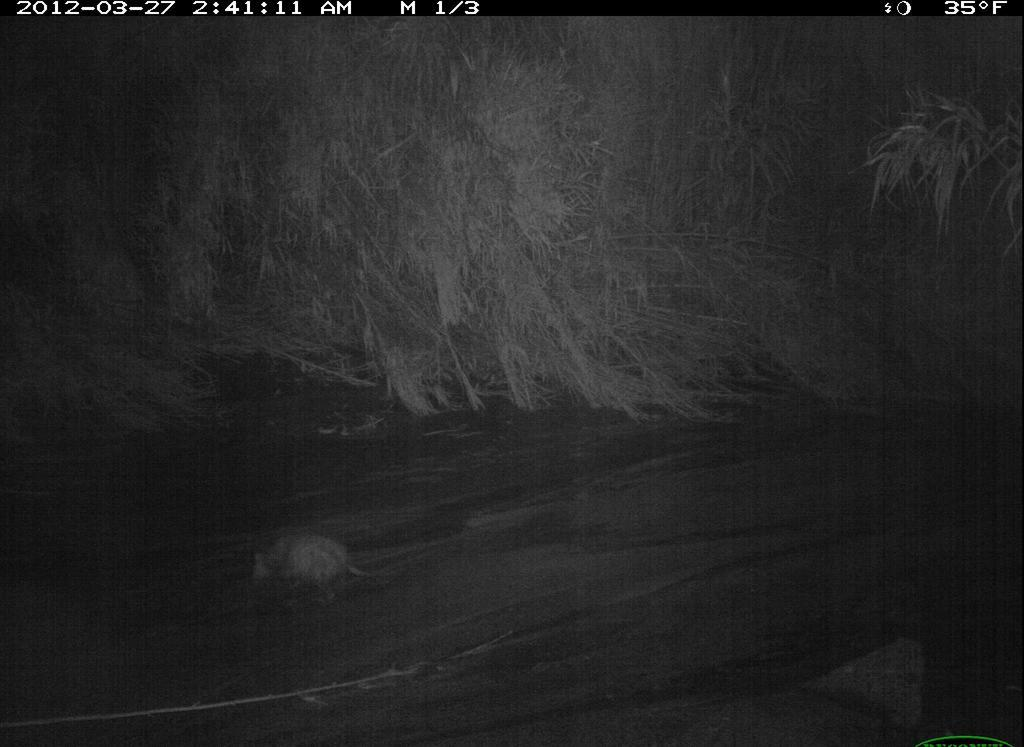opossum: (244, 527, 417, 611)
